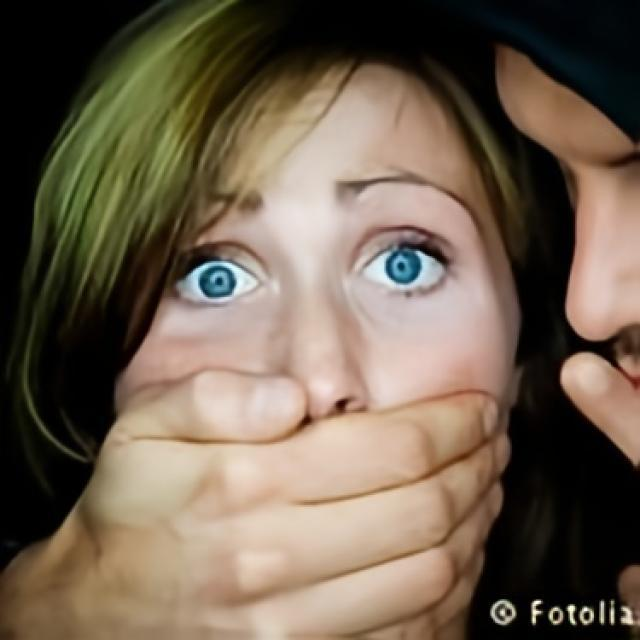fear: (115, 45, 519, 640)
